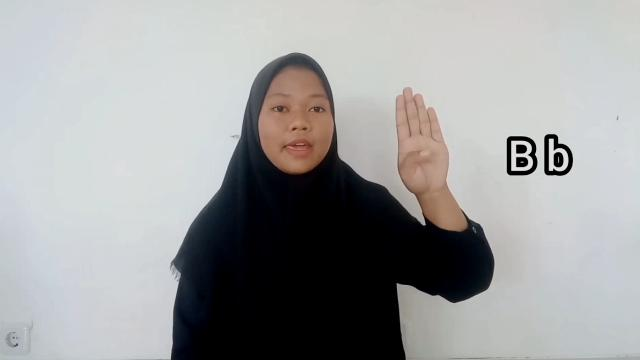B: (394, 86, 451, 198)
